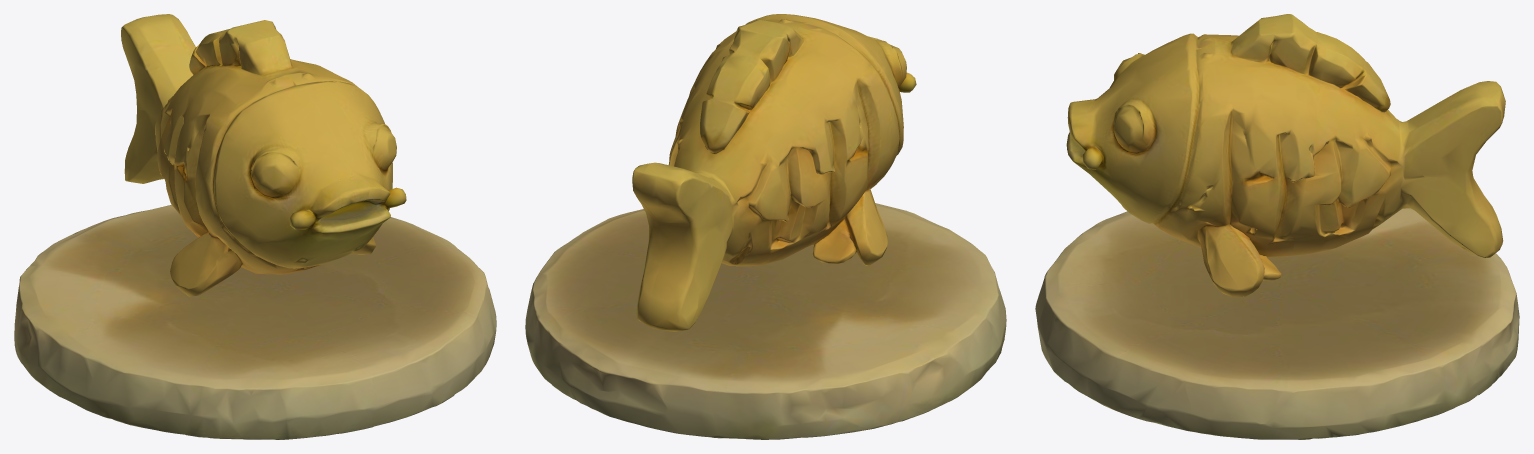
File: fishGold.glb
The picture shows the model from 3 angles, left to right: view 1: azimuth 30°, elevation 25°; view 2: azimuth 150°, elevation 25°; view 3: azimuth 270°, elevation 25°; orthographic projection.
Parts seen in each view (by area): view 1: tripo_node_8abcca50-7388-4148-b20c-a78b15aac3a5; view 2: tripo_node_8abcca50-7388-4148-b20c-a78b15aac3a5; view 3: tripo_node_8abcca50-7388-4148-b20c-a78b15aac3a5.
Boxes of the visible parts, box(x1,y1,x2,y2) form: tripo_node_8abcca50-7388-4148-b20c-a78b15aac3a5: box(14, 14, 496, 439); tripo_node_8abcca50-7388-4148-b20c-a78b15aac3a5: box(525, 14, 1006, 439); tripo_node_8abcca50-7388-4148-b20c-a78b15aac3a5: box(1035, 14, 1519, 439).
Bounding box in the file's own units: 1.4 × 1 × 1.39.
Materials: 1 (1 with a texture image).
